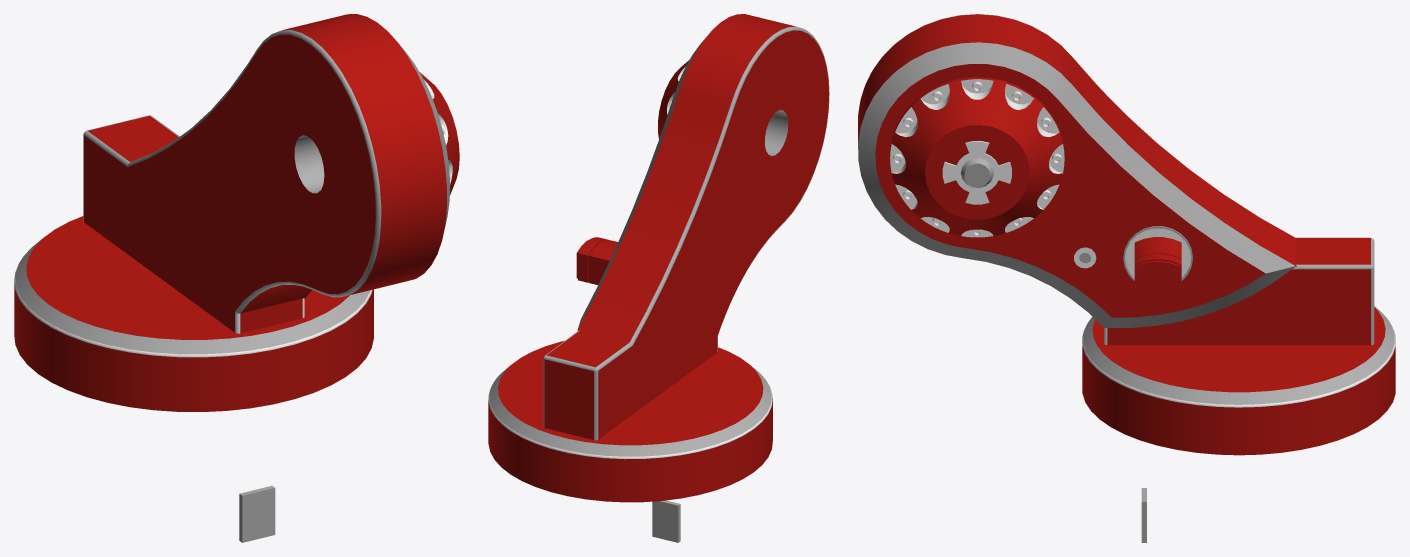
The model's file is Join_Bracket.glb.
The picture shows the model from 3 angles, left to right: view 1: azimuth 30°, elevation 25°; view 2: azimuth 150°, elevation 25°; view 3: azimuth 270°, elevation 25°; orthographic projection. The views are drawn at different scales.
Parts seen in each view (by area): view 1: Solid1.001, Solid2; view 2: Solid1.001, Solid2; view 3: Solid1.001.
Part boxes in pixels (left/top/right/bottom): Solid1.001: left=14, top=14, right=459, bottom=411; Solid2: left=239, top=485, right=275, bottom=542; Solid1.001: left=488, top=14, right=829, bottom=502; Solid2: left=652, top=500, right=680, bottom=542; Solid1.001: left=858, top=14, right=1395, bottom=455.
Bounding box in the file's own units: 0.18 × 0.3191 × 0.3083.
